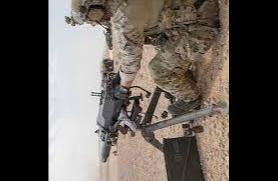gun: (88, 56, 230, 163)
